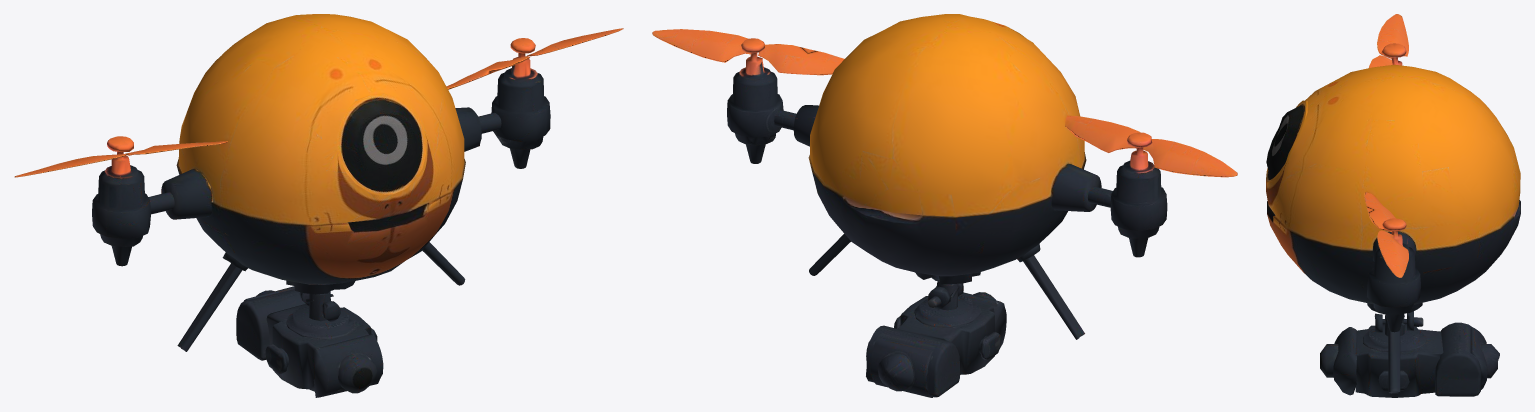
File: drone.glb
The picture shows the model from 3 angles, left to right: view 1: azimuth 30°, elevation 25°; view 2: azimuth 150°, elevation 25°; view 3: azimuth 270°, elevation 25°; orthographic projection. The views are drawn at different scales.
Bounding box in the file's own units: 0.9575 × 0.5225 × 0.3916.
Materials: 1 (1 with a texture image).
